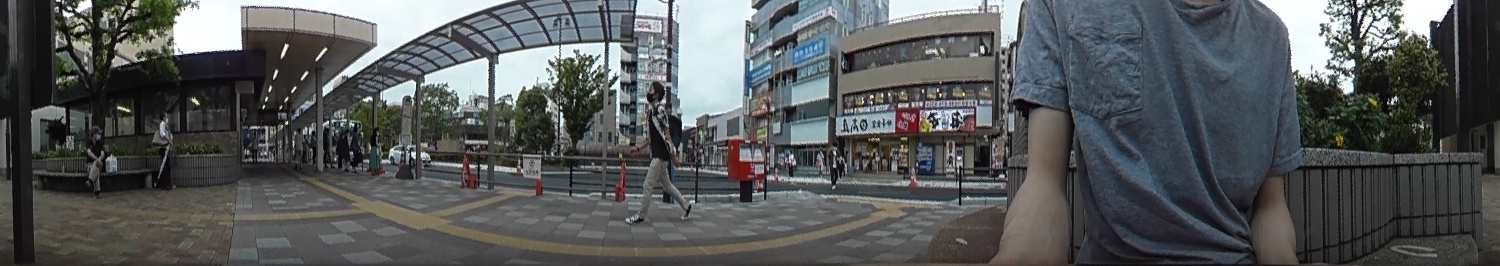difficult_person: (367, 124, 382, 176), (827, 141, 839, 181), (292, 126, 303, 169), (339, 128, 350, 166), (350, 128, 360, 168), (249, 131, 259, 165), (784, 149, 796, 174)
person: (635, 80, 690, 221), (154, 111, 177, 191), (83, 128, 108, 191)
